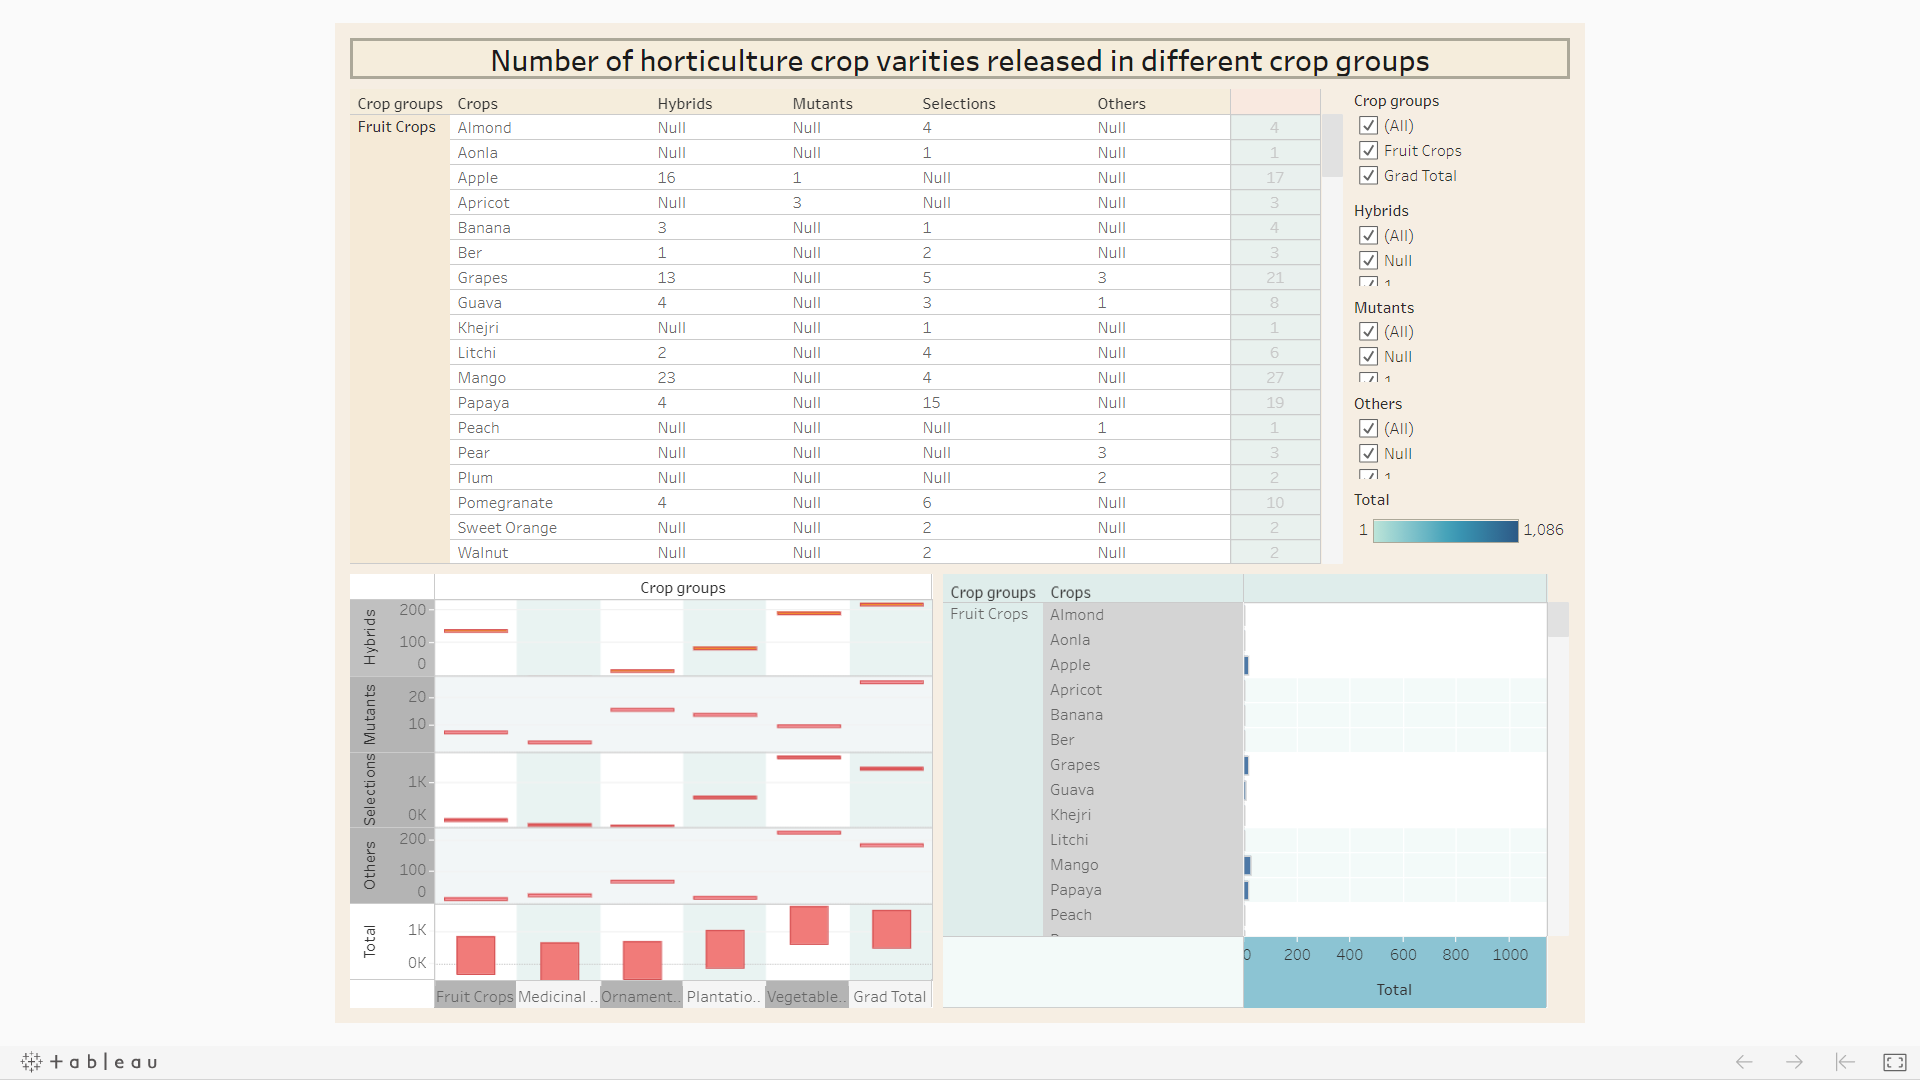

This screenshot's page, from the dashboard's own definition file:
{"tool":"tableau","page":{"name":"Dashboard 1","canvas":[1000,800],"ordinal":0},"visuals":[{"type":"worksheet","box":[0,0,1000,800]},{"type":"worksheet","param":"vert","box":[8,8,984,784]},{"type":"worksheet","box":[8,8,984,47]},{"type":"worksheet","box":[8,55,984,737]},{"type":"worksheet","box":[8,55,984,384.4]},{"type":"worksheet","param":"horz","box":[8,55,803,384.4]},{"type":"worksheet","box":[8,55,803,384.4]},{"type":"worksheet","title":"Sheet 1","mark":"Square","rows":["Crop groups","Crops","Hybrids","Mutants","Selections","Others"],"box":[8,55,803,384.4]},{"type":"worksheet","param":"horz","box":[811,55,181,384.4]},{"type":"worksheet","param":"vert","box":[811,55,181,384.4]},{"type":"worksheet","title":"Sheet 1","mark":"Square","rows":["Crop groups","Crops","Hybrids","Mutants","Selections","Others"],"param":"[federated.1lk7ige0w4tum711hlnnt0vp060d].[none:Crop groups:nk]","box":[811,55,181,88]},{"type":"worksheet","title":"Sheet 1","mark":"Square","rows":["Crop groups","Crops","Hybrids","Mutants","Selections","Others"],"param":"[federated.1lk7ige0w4tum711hlnnt0vp060d].[none:Hybrids:ok]","box":[811,143,181,74.5]},{"type":"worksheet","title":"Sheet 1","mark":"Square","rows":["Crop groups","Crops","Hybrids","Mutants","Selections","Others"],"param":"[federated.1lk7ige0w4tum711hlnnt0vp060d].[none:Mutants:ok]","box":[811,217.5,181,74.5]},{"type":"worksheet","title":"Sheet 1","mark":"Square","rows":["Crop groups","Crops","Hybrids","Mutants","Selections","Others"],"param":"[federated.1lk7ige0w4tum711hlnnt0vp060d].[none:Others:ok]","box":[811,292,181,74.5]},{"type":"worksheet","title":"Sheet 1","mark":"Square","rows":["Crop groups","Crops","Hybrids","Mutants","Selections","Others"],"param":"[federated.1lk7ige0w4tum711hlnnt0vp060d].[sum:Total:qk]","box":[811,366.4,181,73]},{"type":"worksheet","title":"Sheet 2","mark":"Automatic","rows":["Hybrids","Mutants","Selections","Others","Total"],"cols":["Crop groups"],"box":[8,439.4,474,352.6]},{"type":"worksheet","title":"Sheet 3","mark":"Automatic","rows":["Crop groups","Crops"],"cols":["Total"],"box":[482,439.4,510,352.6]}]}

Visuals, with their boxes on the page's 1000x800 design canvas (x1, y1, x2, y2). These are canvas units, not pixel positions in the 1920x1080 screenshot, which may show the page scaled, cropped or inside an application window:
worksheet: <bbox>0, 0, 1000, 800</bbox>
worksheet: <bbox>8, 8, 992, 792</bbox>
worksheet: <bbox>8, 8, 992, 55</bbox>
worksheet: <bbox>8, 55, 992, 792</bbox>
worksheet: <bbox>8, 55, 992, 439</bbox>
worksheet: <bbox>8, 55, 811, 439</bbox>
worksheet: <bbox>8, 55, 811, 439</bbox>
"Sheet 1" worksheet (Square marks): <bbox>8, 55, 811, 439</bbox>
worksheet: <bbox>811, 55, 992, 439</bbox>
worksheet: <bbox>811, 55, 992, 439</bbox>
"Sheet 1" worksheet (Square marks): <bbox>811, 55, 992, 143</bbox>
"Sheet 1" worksheet (Square marks): <bbox>811, 143, 992, 218</bbox>
"Sheet 1" worksheet (Square marks): <bbox>811, 218, 992, 292</bbox>
"Sheet 1" worksheet (Square marks): <bbox>811, 292, 992, 366</bbox>
"Sheet 1" worksheet (Square marks): <bbox>811, 366, 992, 439</bbox>
"Sheet 2" worksheet: <bbox>8, 439, 482, 792</bbox>
"Sheet 3" worksheet: <bbox>482, 439, 992, 792</bbox>
